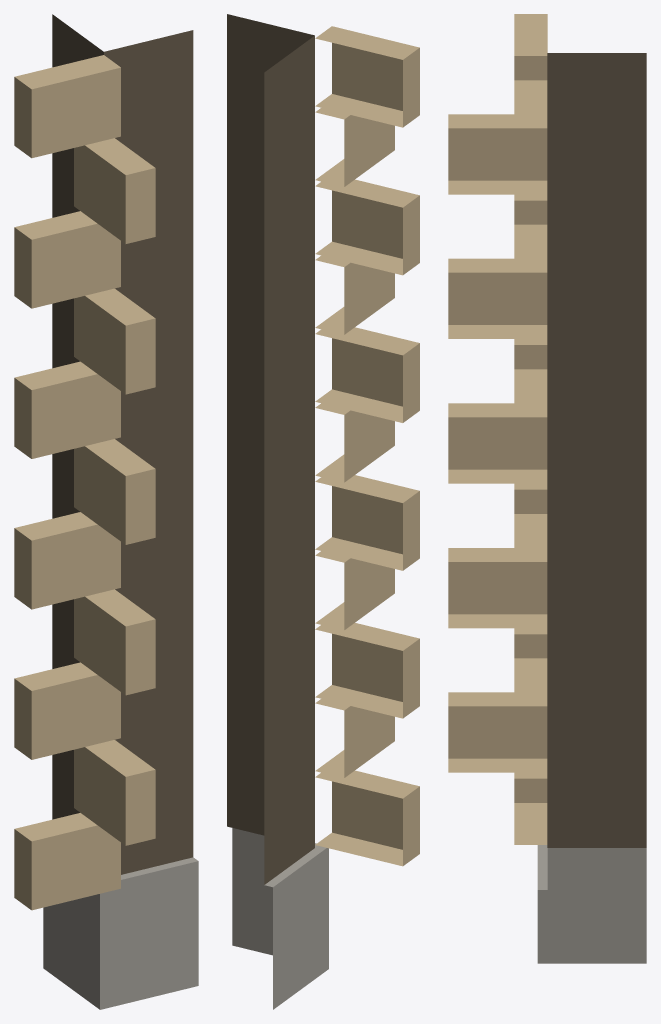
The picture shows the model from 3 angles, left to right: view 1: azimuth 30°, elevation 25°; view 2: azimuth 150°, elevation 25°; view 3: azimuth 270°, elevation 25°; orthographic projection. The views are drawn at different scales.
Visible parts, largest first — view 1: a2015/400/base-c1; view 2: a2015/400/base-c1; view 3: a2015/400/base-c1.
Boxes of the visible parts, <box> form: a2015/400/base-c1: <box>14,14,198,1009</box>; a2015/400/base-c1: <box>227,14,419,1009</box>; a2015/400/base-c1: <box>448,14,646,963</box>.
Bounding box in the file's own units: 0.6 × 3.05 × 0.6.
